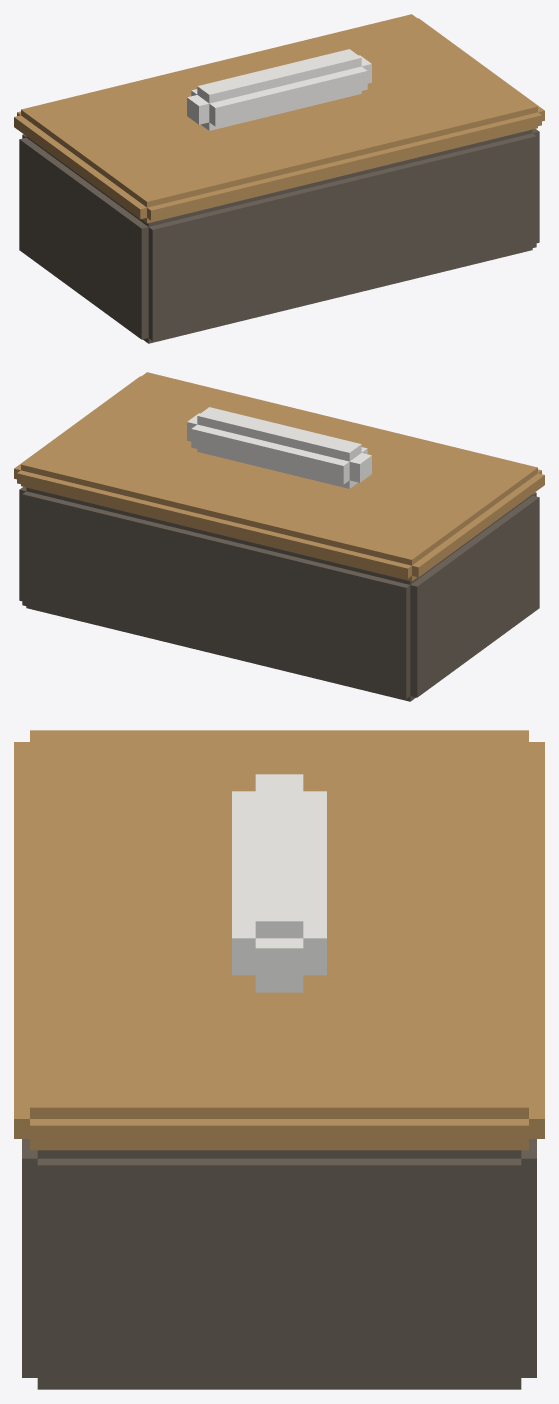
3 renders of one model, top to bottom at view 1: azimuth 30°, elevation 25°; view 2: azimuth 150°, elevation 25°; view 3: azimuth 270°, elevation 25°, orthographic. The views are drawn at different scales.
Parts seen in each view (by area): view 1: tissue-box-each; view 2: tissue-box-each; view 3: tissue-box-each.
Boxes of the visible parts, <box> form: tissue-box-each: <box>14,14,544,343</box>; tissue-box-each: <box>14,372,544,701</box>; tissue-box-each: <box>14,730,544,1389</box>.
Bounding box in the file's own units: 0.235 × 0.1 × 0.135.
